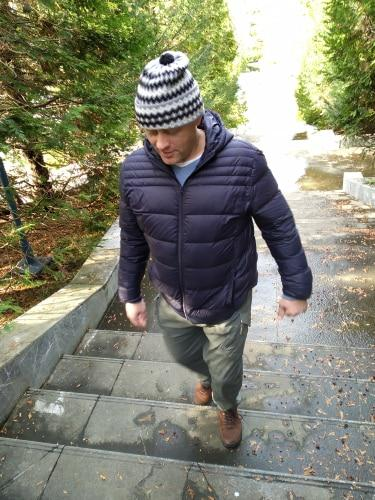pants: (153, 291, 253, 411)
